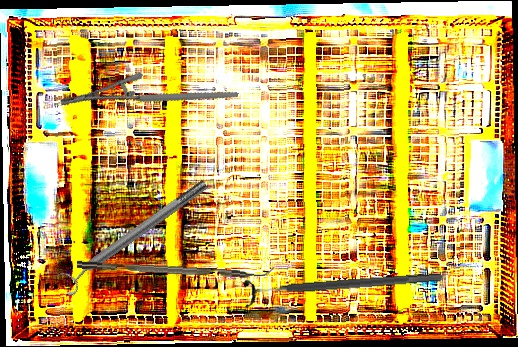Chopper: (76, 251, 275, 282)
Fixation Ring: (53, 173, 215, 298), (243, 261, 443, 310)
Needle Holder: (58, 43, 239, 155)
